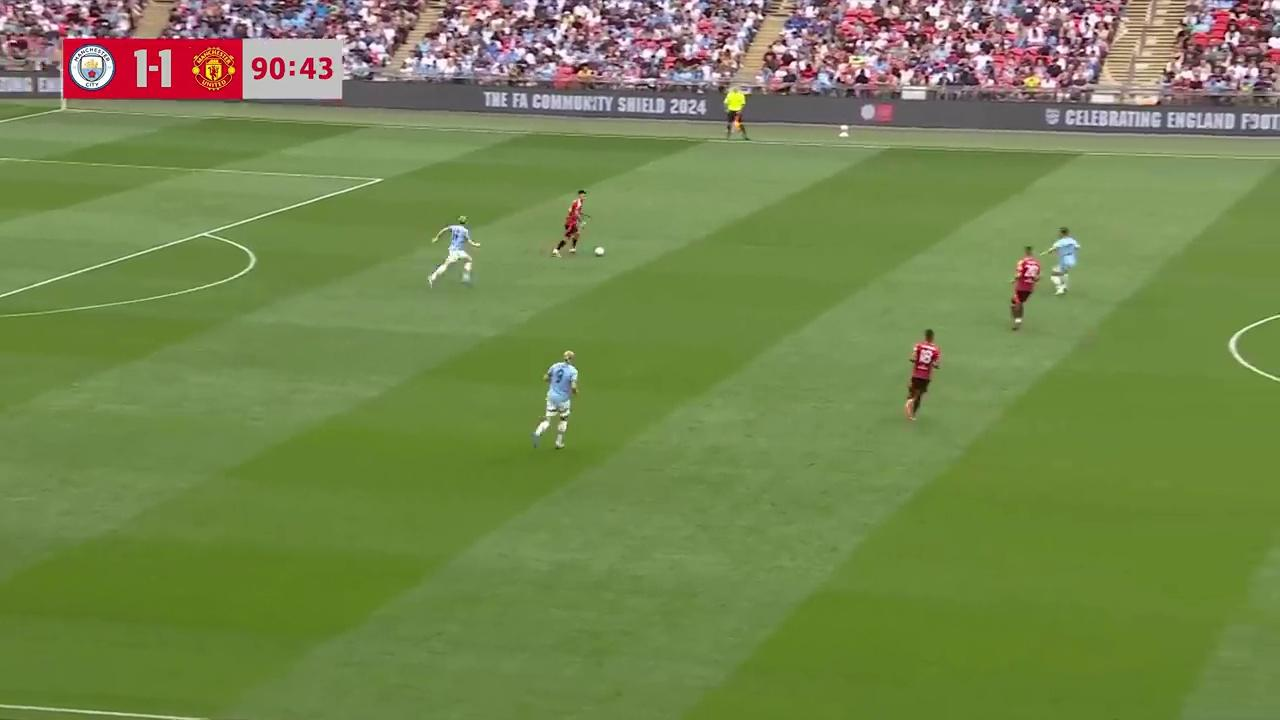ball: (593, 243, 606, 257)
player: (531, 351, 579, 450), (428, 216, 480, 287), (904, 328, 941, 422), (551, 189, 589, 258), (1046, 227, 1081, 296), (1010, 252, 1037, 332)
referee: (722, 91, 750, 141)
